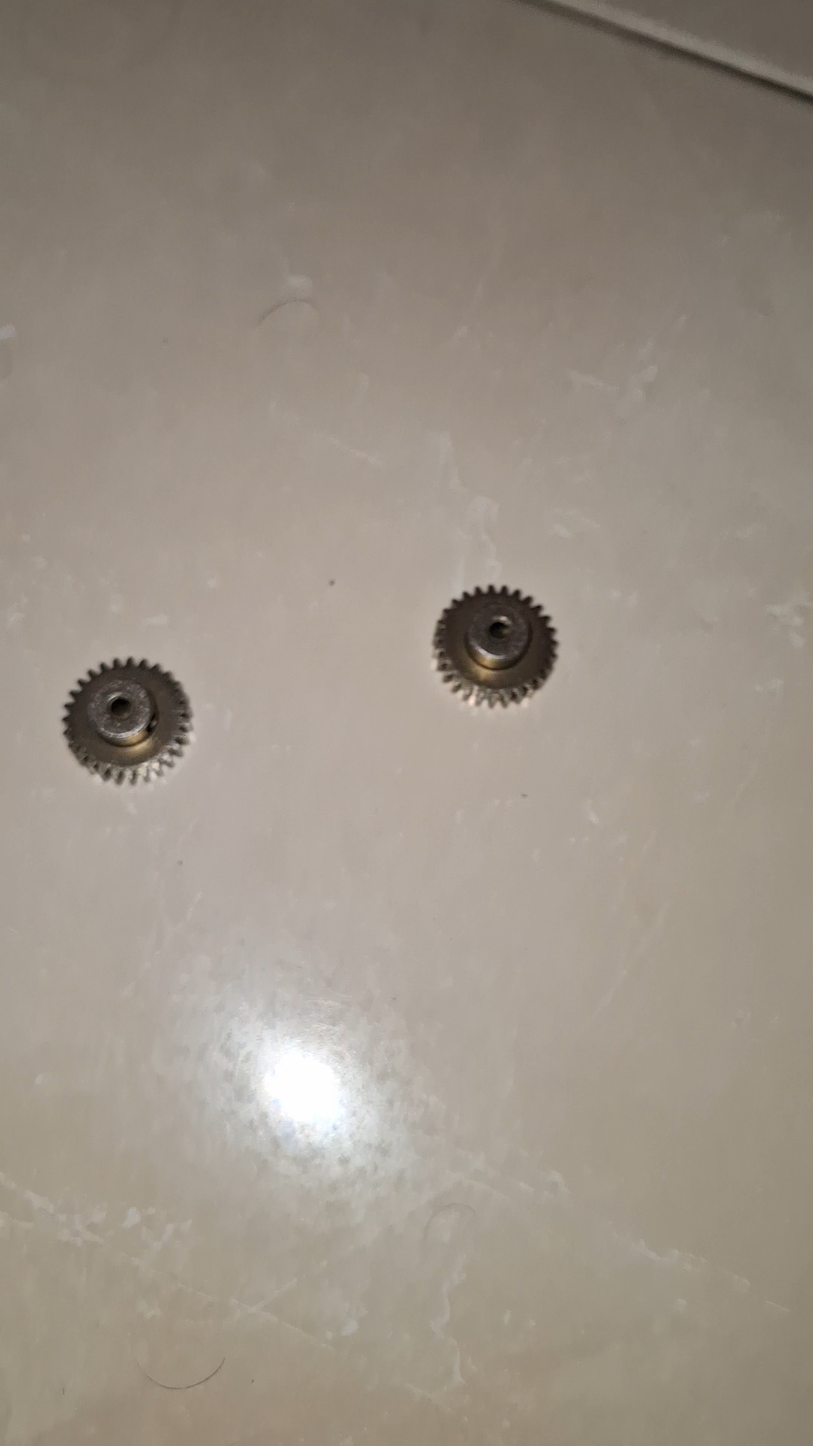spur gear: (64, 658, 191, 783), (434, 586, 556, 706)
